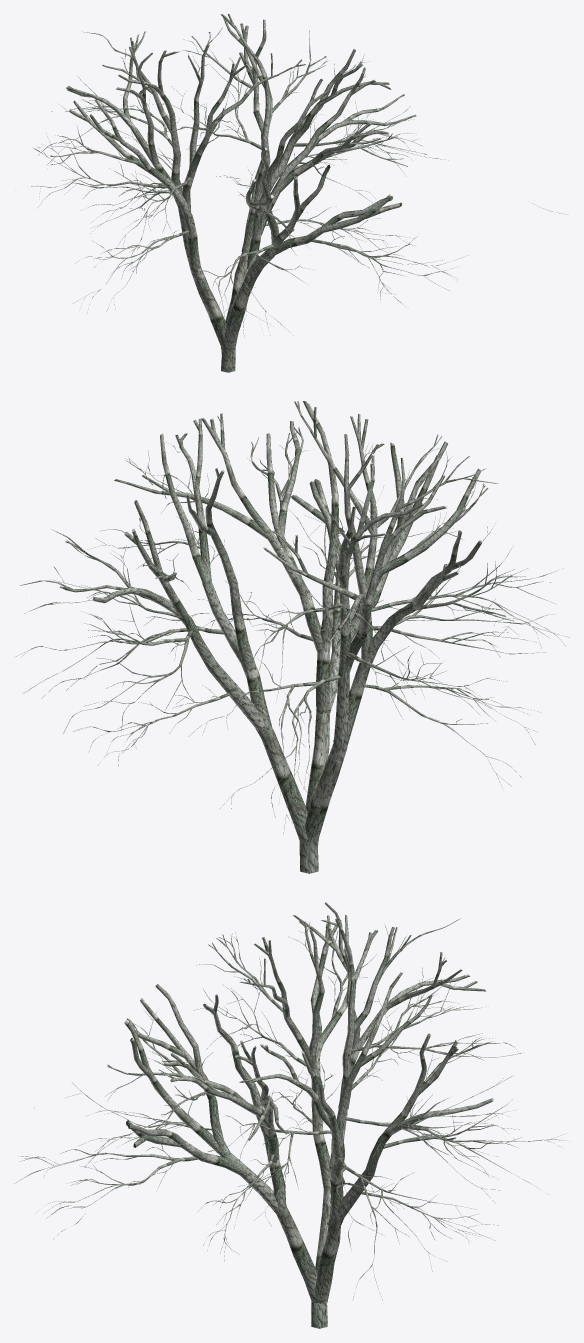
The model's file is tree_1.glb.
The picture shows the model from 3 angles, top to bottom: view 1: azimuth 30°, elevation 25°; view 2: azimuth 150°, elevation 25°; view 3: azimuth 270°, elevation 25°; orthographic projection. The views are drawn at different scales.
Parts seen in each view (by area): view 1: tree; view 2: tree; view 3: tree.
Part boxes in pixels (left/top/right/bottom): tree: left=31, top=14, right=567, bottom=372; tree: left=15, top=401, right=569, bottom=873; tree: left=14, top=902, right=569, bottom=1328.
Bounding box in the file's own units: 8.77 × 6.93 × 9.15.
1 material, 1 textured.
